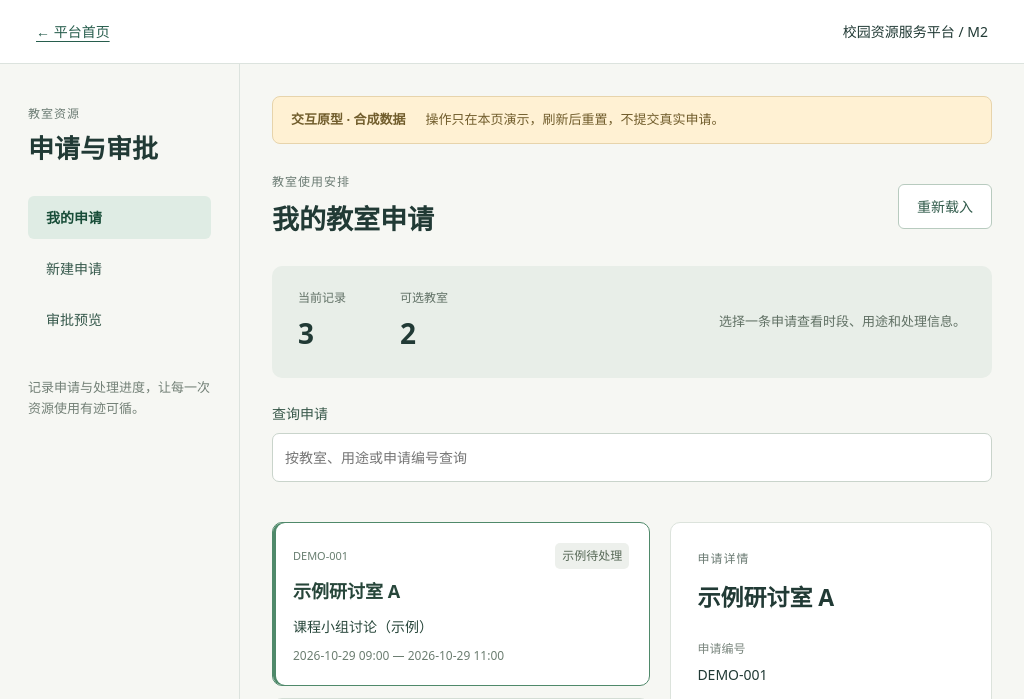
Test: M2 workspace observable behavior › shows an empty result and removes unrelated details after filtering
The image size is (1024, 699).
Type "不存在的申请" into the search field with id "m2-search" at (632,458), box [272,433,992,482]
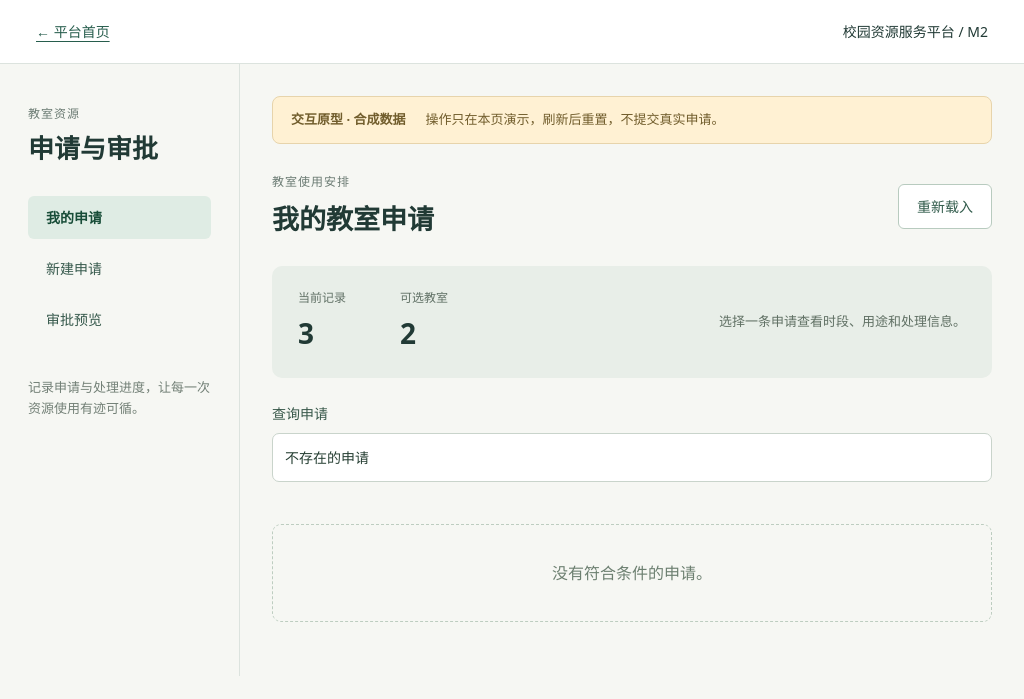
Check: the text "没有符合条件的申请" is shown, box [552,562,712,584]
